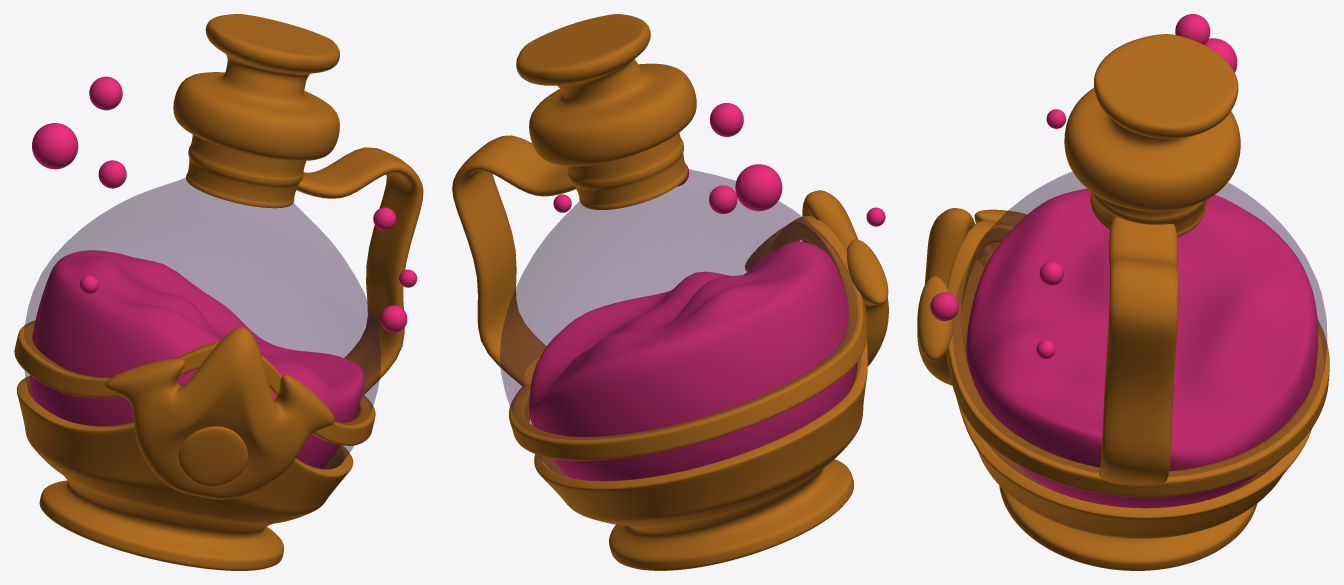
File: Potion.glb
The picture shows the model from 3 angles, left to right: view 1: azimuth 30°, elevation 25°; view 2: azimuth 150°, elevation 25°; view 3: azimuth 270°, elevation 25°; orthographic projection. The views are drawn at different scales.
Parts seen in each view (by area): view 1: Sphere, Sphere.011, Sphere.002, Sphere.001, Sphere.010, Sphere.013, Sphere.012, Sphere.004, Sphere.005, Sphere.003, Sphere.007; view 2: Sphere, Sphere.002, Sphere.011, Sphere.001, Sphere.013, Sphere.012, Sphere.010, Sphere.004, Sphere.005, Sphere.003; view 3: Sphere, Sphere.002, Sphere.001, Sphere.013, Sphere.011, Sphere.012, Sphere.010, Sphere.005, Sphere.007.
Boxes of the visible parts, x1,y1,x2,y2 form: Sphere: (24,178,380,468); Sphere.011: (16,376,353,570); Sphere.002: (30,250,363,468); Sphere.001: (173,14,339,208); Sphere.010: (105,327,334,499); Sphere.013: (296,147,423,394); Sphere.012: (14,320,375,445); Sphere.004: (32,123,78,169); Sphere.005: (89,76,122,110); Sphere.003: (98,160,126,188); Sphere.007: (380,305,407,332); Sphere: (500,169,861,480); Sphere.002: (529,241,854,481); Sphere.011: (534,339,867,570); Sphere.001: (516,14,696,209); Sphere.013: (452,135,575,386); Sphere.012: (509,216,867,460); Sphere.010: (745,190,888,366); Sphere.004: (735,164,782,211); Sphere.005: (710,103,743,136); Sphere.003: (709,185,737,213); Sphere: (952,172,1326,507); Sphere.002: (966,188,1318,508); Sphere.001: (1064,34,1240,236); Sphere.013: (1099,216,1178,485); Sphere.011: (956,398,1311,570); Sphere.012: (945,220,1329,497); Sphere.010: (917,208,1027,385); Sphere.005: (1175,14,1210,44); Sphere.007: (930,292,958,321).
Size of the model in its own units: 0.6325 by 0.8059 by 0.575.
